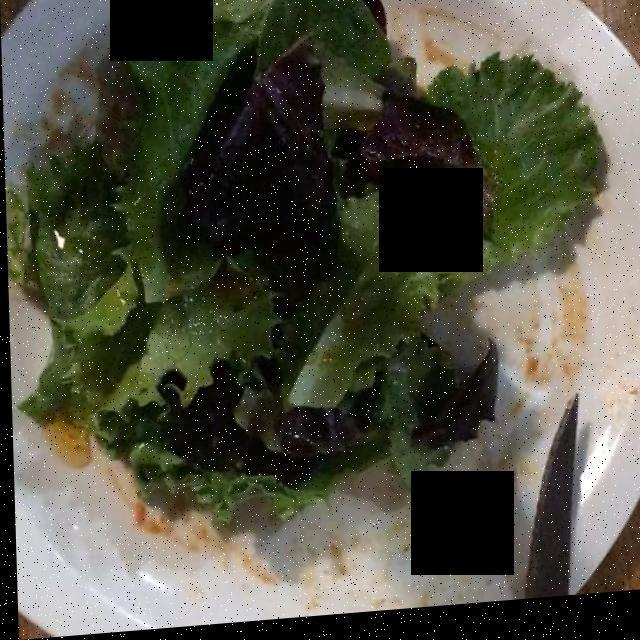salad: (17, 0, 593, 533)
